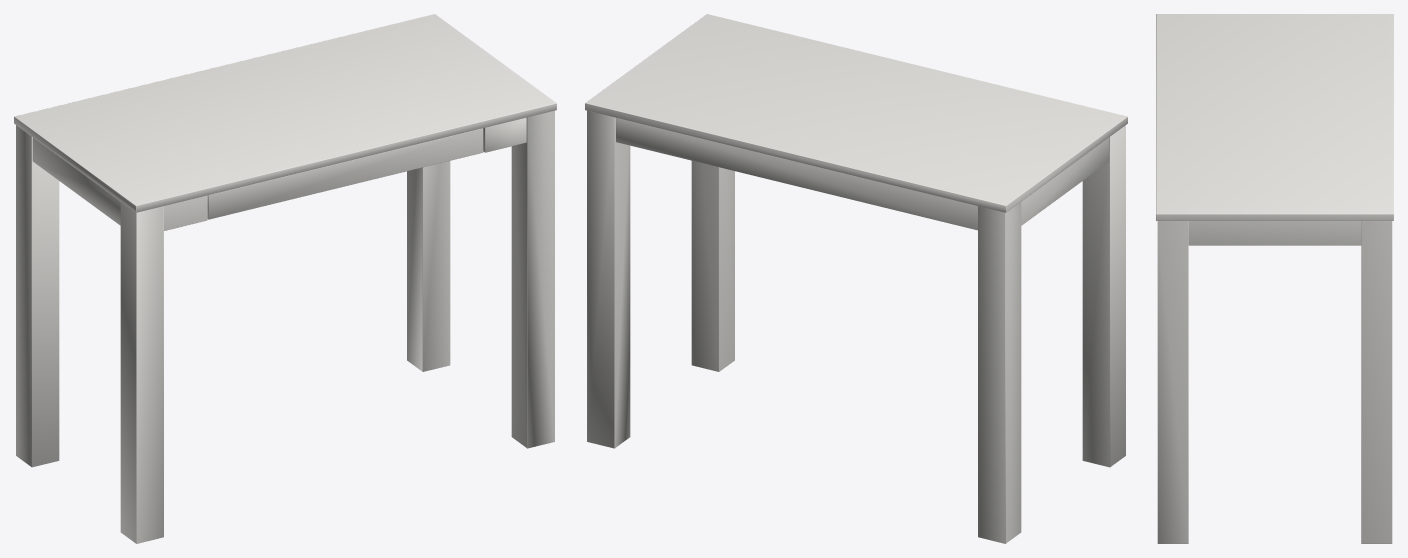
The picture shows the model from 3 angles, left to right: view 1: azimuth 30°, elevation 25°; view 2: azimuth 150°, elevation 25°; view 3: azimuth 270°, elevation 25°; orthographic projection. The views are drawn at different scales.
Visible parts, largest first — view 1: B07R7W7ZMP; view 2: B07R7W7ZMP; view 3: B07R7W7ZMP.
Boxes of the visible parts, box(x1,y1,x2,y2) form: B07R7W7ZMP: box(14, 14, 556, 543); B07R7W7ZMP: box(585, 14, 1127, 543); B07R7W7ZMP: box(1156, 14, 1393, 543).
Bounding box in the file's own units: 0.9899 × 0.762 × 0.497.
1 material, 1 textured.
